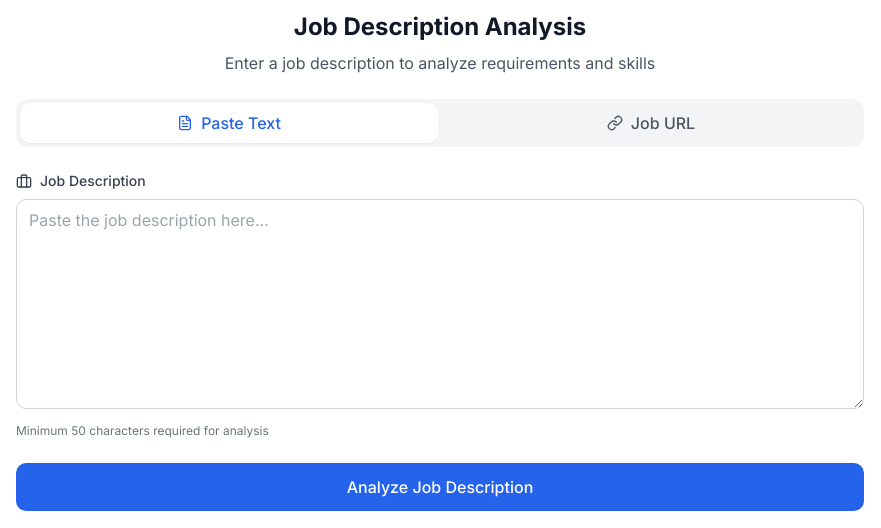
JobDescriptionInput › switches between text and URL tabs
Click the button "Job URL": (651, 123) [442,103,860,143]
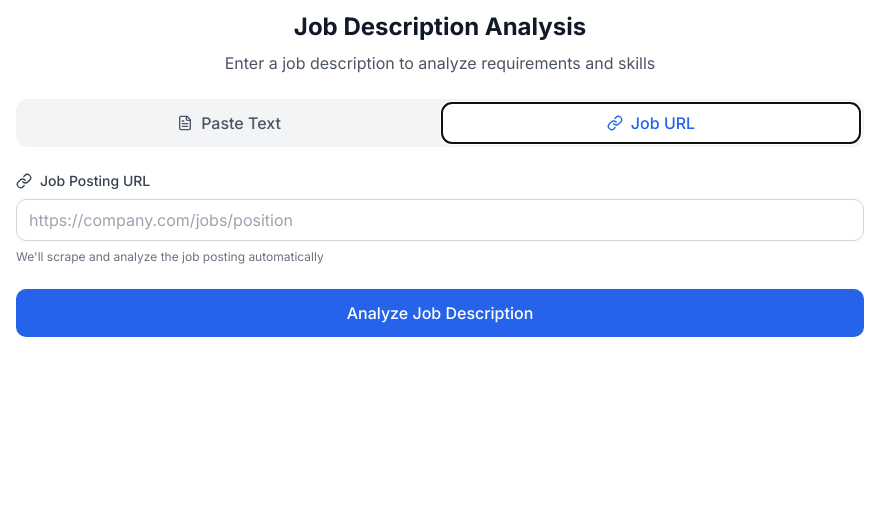
Expected: the field with placeholder "Paste the job description here..." is not shown
Expected: the field with placeholder "https://company.com/jobs/position" is shown, [16,199,864,241]
